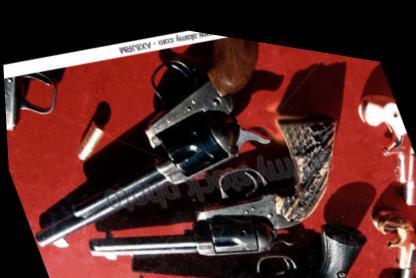pistol: (0, 0, 329, 275), (51, 62, 380, 275), (107, 170, 391, 275), (345, 68, 415, 201), (363, 175, 415, 275)
